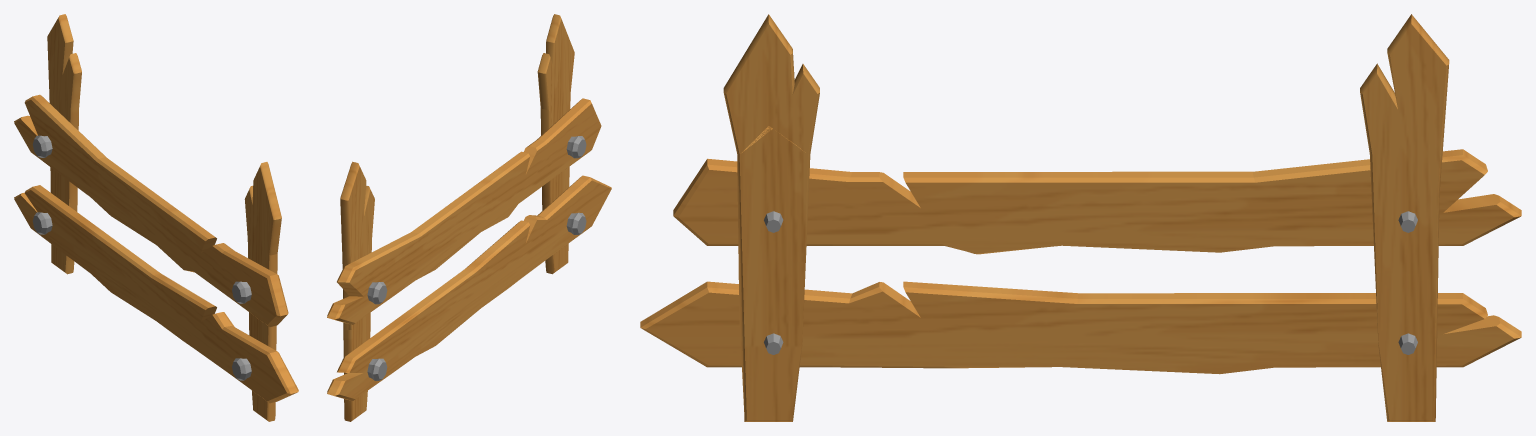
The model's file is fense.fbx.
3 views of the same model, side by side, from view 1: azimuth 30°, elevation 25°; view 2: azimuth 150°, elevation 25°; view 3: azimuth 270°, elevation 25° (orthographic). The views are drawn at different scales.
Visible parts, largest first — view 1: polySurface1, polySurface9, polySurface5, polySurface7, polySurface11, polySurface8, polySurface4, polySurface10, polySurface6, polySurface14, polySurface13, polySurface12 (+4 smaller); view 2: polySurface1, polySurface9, polySurface7, polySurface5, polySurface8, polySurface4, polySurface11, polySurface10, polySurface6, polySurface14, polySurface13, polySurface12 (+4 smaller); view 3: polySurface9, polySurface11, polySurface13, polySurface5, polySurface4, polySurface8, polySurface1, polySurface7, polySurface10, polySurface14, polySurface12, polySurface6.
Part boxes in pixels (x1,y1,x2,y2): polySurface1: (14,94,105,196); polySurface9: (151,273,234,371); polySurface5: (151,197,234,295); polySurface7: (14,185,104,272); polySurface11: (47,14,81,203); polySurface8: (90,233,160,320); polySurface4: (90,157,160,244); polySurface10: (222,326,298,403); polySurface6: (222,249,288,326); polySurface14: (244,162,281,255); polySurface13: (247,230,277,421); polySurface12: (50,171,77,274); polySurface1: (327,232,420,324); polySurface9: (465,215,551,307); polySurface7: (327,308,420,400); polySurface5: (467,139,551,231); polySurface8: (411,268,480,356); polySurface4: (412,191,480,280); polySurface11: (340,161,374,334); polySurface10: (537,175,611,255); polySurface6: (537,98,601,178); polySurface14: (537,14,574,109); polySurface13: (540,82,570,274); polySurface12: (343,330,370,421); polySurface9: (832,281,1077,368); polySurface11: (1360,14,1449,309); polySurface13: (737,126,810,421); polySurface5: (832,172,1077,254); polySurface4: (1062,171,1273,252); polySurface8: (1062,293,1273,374); polySurface1: (1252,149,1521,246); polySurface7: (1252,293,1521,367); polySurface10: (640,281,852,367); polySurface14: (723,14,819,154); polySurface12: (1376,277,1438,421); polySurface6: (673,158,852,245).
Bounding box in the file's own units: 9.89 × 62.19 × 123.
2 materials, 1 textured.
